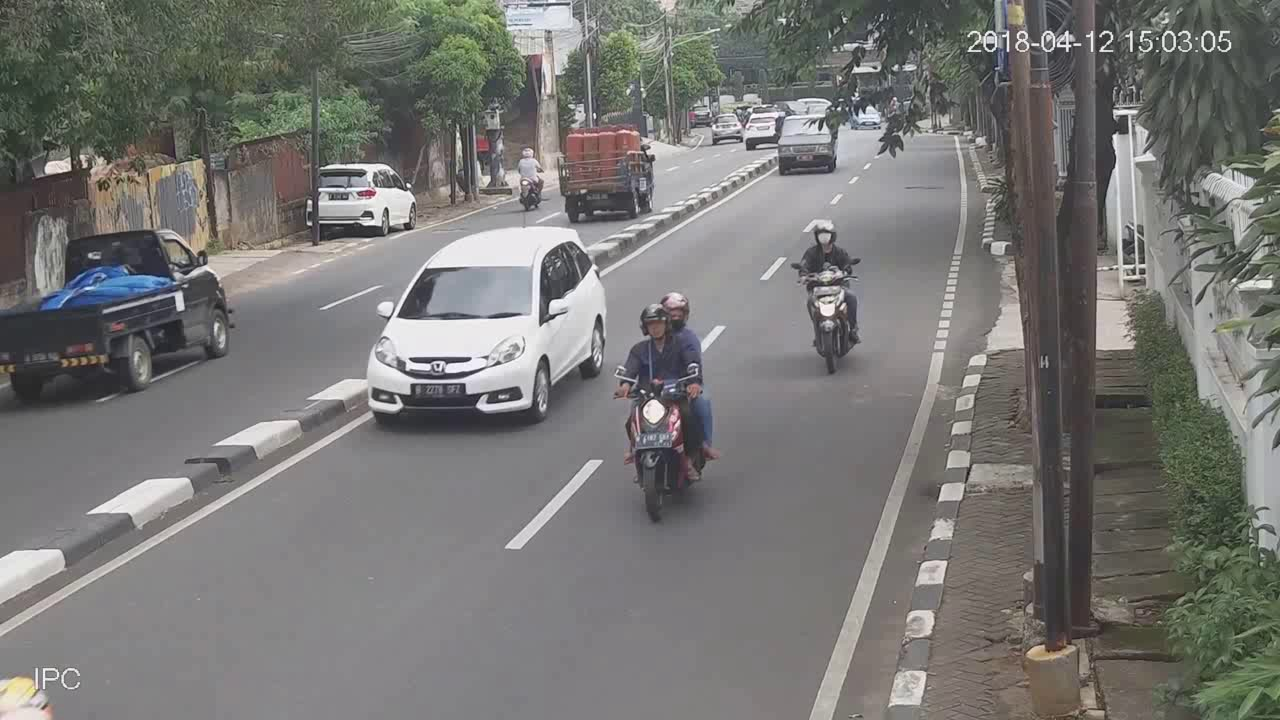car: (364, 224, 607, 428), (307, 157, 419, 237), (778, 115, 838, 174)
motorcycle: (612, 289, 723, 523), (791, 214, 865, 376), (514, 143, 546, 211)
truck: (1, 227, 234, 392), (554, 127, 660, 220)
